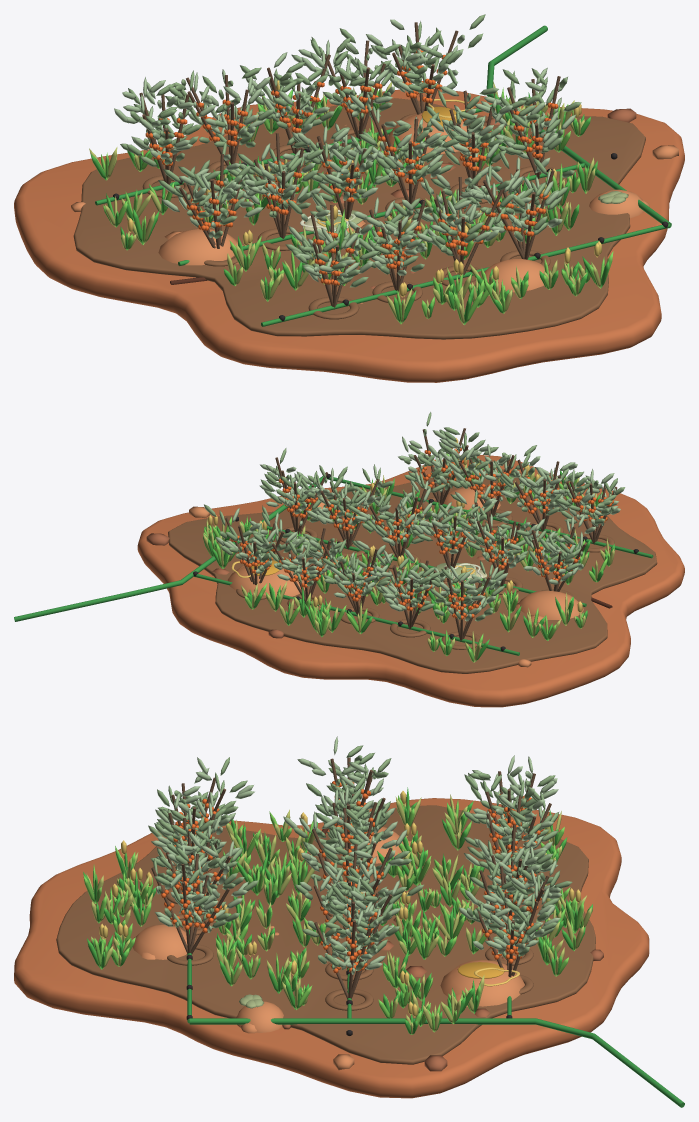
3 views of the same model, one above another, from view 1: azimuth 30°, elevation 25°; view 2: azimuth 150°, elevation 25°; view 3: azimuth 270°, elevation 25° (orthographic). The views are drawn at different scales.
Visible parts, largest first — view 1: Cylinder.005, Cylinder, Sphere.843, Sphere.844, pipe.003, Sphere.042, Sphere.856, Sphere.043, Sphere.041, Sphere, pipe.078, Sphere.049 (+1 smaller); view 2: Cylinder.005, Cylinder, Sphere.843, Sphere.844, pipe.003, Sphere.856, Sphere.043, Sphere.041, Sphere.042, pipe.078, Sphere, Sphere.049 (+1 smaller); view 3: Cylinder.005, Cylinder, Sphere.843, Sphere.844, Sphere.042, Sphere.041, Sphere.043, pipe.003, Sphere, Sphere.856, pipe.078, Sphere.049 (+2 smaller).
Boxes of the visible parts, x1,y1,x2,y2 form: Cylinder.005: (73,98,645,339); Cylinder: (14,88,684,382); Sphere.843: (120,14,581,287); Sphere.844: (114,19,576,282); pipe.003: (139,22,560,309); Sphere.042: (89,82,600,324); Sphere.856: (145,50,558,285); Sphere.043: (91,89,608,324); Sphere.041: (101,87,613,324); Sphere: (71,112,678,303); pipe.078: (95,25,671,326); Sphere.049: (127,80,601,297); Cylinder.005: (168,469,657,673); Cylinder: (137,455,684,707); Sphere.843: (204,412,625,621); Sphere.844: (215,429,620,621); pipe.003: (225,428,617,641); Sphere.856: (231,448,613,619); Sphere.043: (203,458,614,661); Sphere.041: (203,453,610,662); Sphere.042: (203,460,614,662); pipe.078: (14,476,653,655); Sphere: (189,487,583,667); Sphere.049: (208,438,595,612); Cylinder.005: (56,805,595,1064); Cylinder: (14,798,649,1098); Sphere.843: (148,745,572,970); Sphere.844: (151,736,561,974); Sphere.042: (86,794,591,1034); Sphere.041: (83,795,583,1031); Sphere.043: (83,787,592,1034); pipe.003: (151,757,551,998); Sphere: (133,826,526,1070); Sphere.856: (161,781,543,973); pipe.078: (187,893,684,1107); Sphere.049: (99,791,580,1017).
Bounding box in the file's own units: 1.58 × 0.3403 × 1.51.
